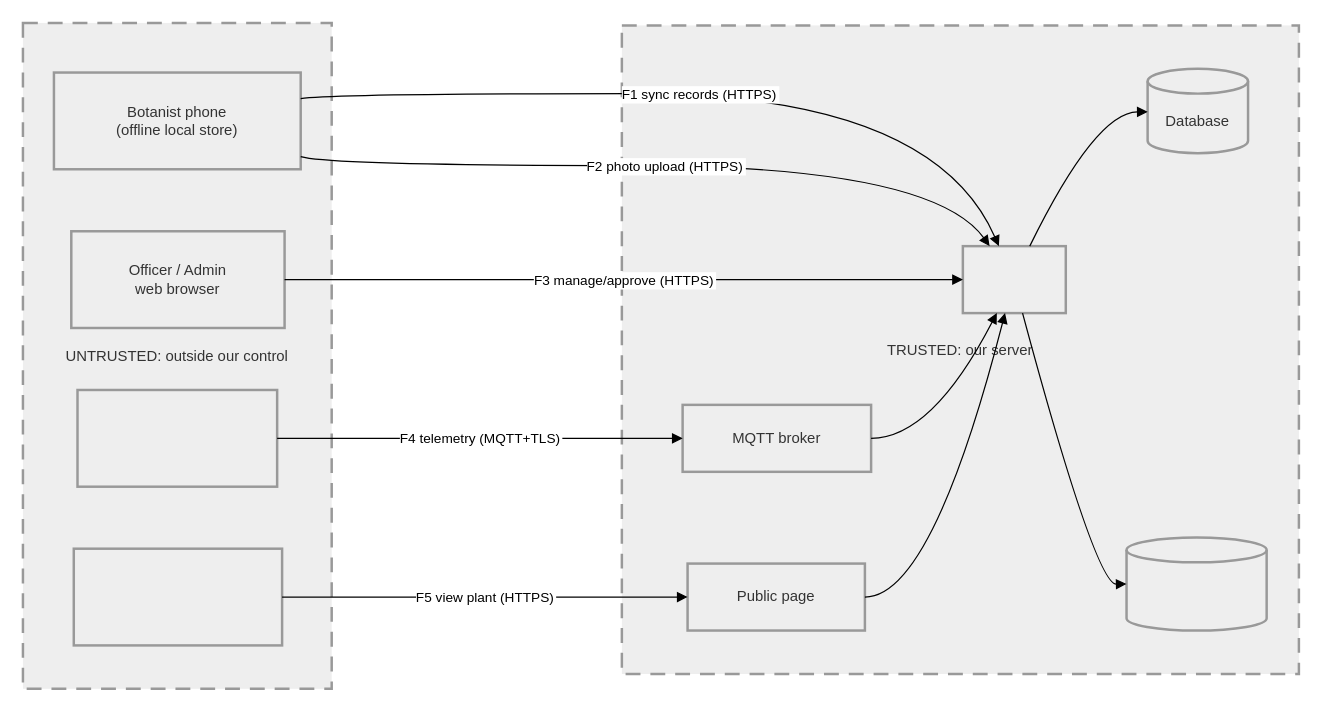
The diagram is 1321 pixels wide and 711 high, and some of its shapes have lost their labels. Here are the shapes that lost their labels. From the top down, the centre of each, then its label:
the point at 1013,279: API
the point at 177,437: IoT sensor (in the forest)
the point at 177,596: Visitor browser
the point at 1196,583: Photo storage
